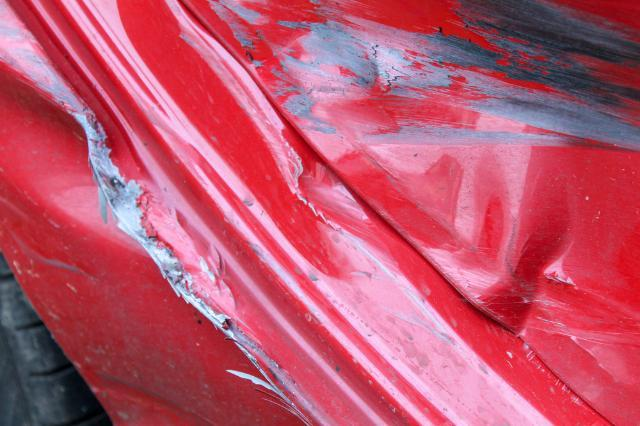dent: (187, 0, 640, 403), (0, 67, 150, 251)
scratch: (137, 243, 325, 426)
